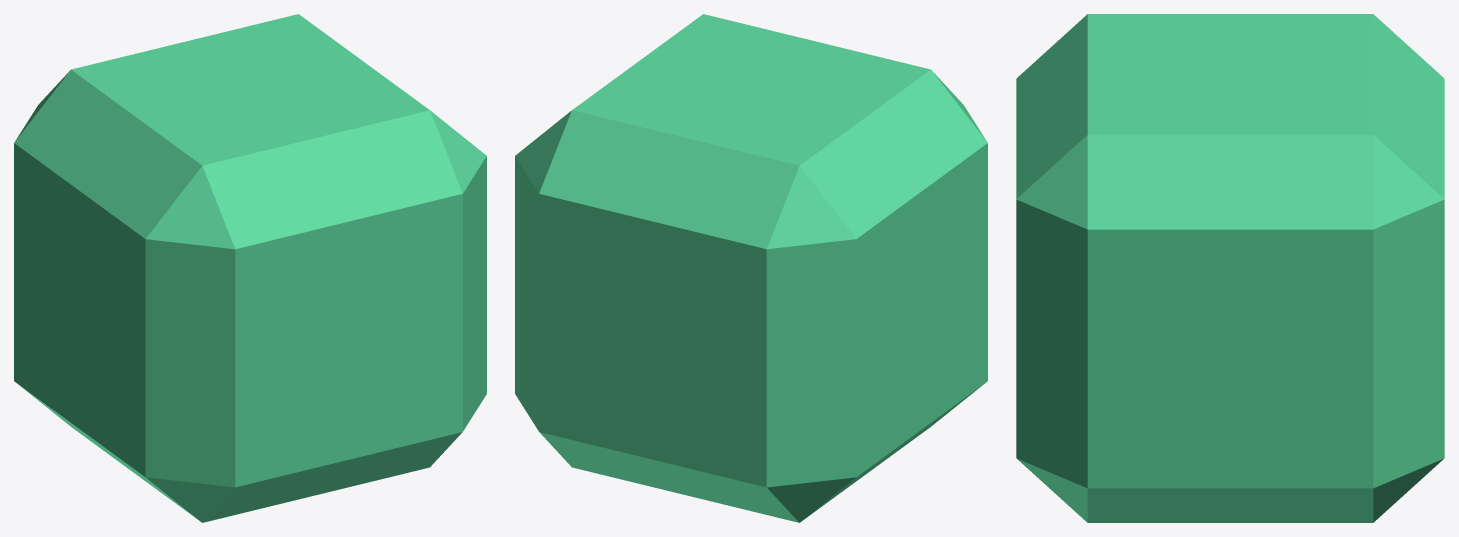
The model's file is modelcube.glb.
3 renders of one model, left to right at view 1: azimuth 30°, elevation 25°; view 2: azimuth 150°, elevation 25°; view 3: azimuth 270°, elevation 25°, orthographic. The views are drawn at different scales.
Visible parts, largest first — view 1: Box001; view 2: Box001; view 3: Box001.
Part boxes in pixels (x1,y1,x2,y2): Box001: [14, 14, 486, 522]; Box001: [515, 14, 987, 522]; Box001: [1016, 14, 1444, 522].
Bounding box in the file's own units: 0.3 × 0.3 × 0.3.
